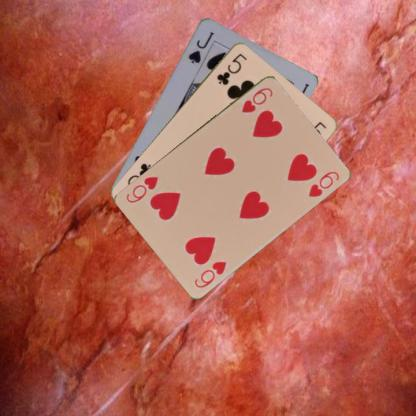5c: (214, 50, 248, 86)
6h: (192, 258, 228, 290), (240, 84, 274, 115)
Js: (186, 29, 216, 72)
